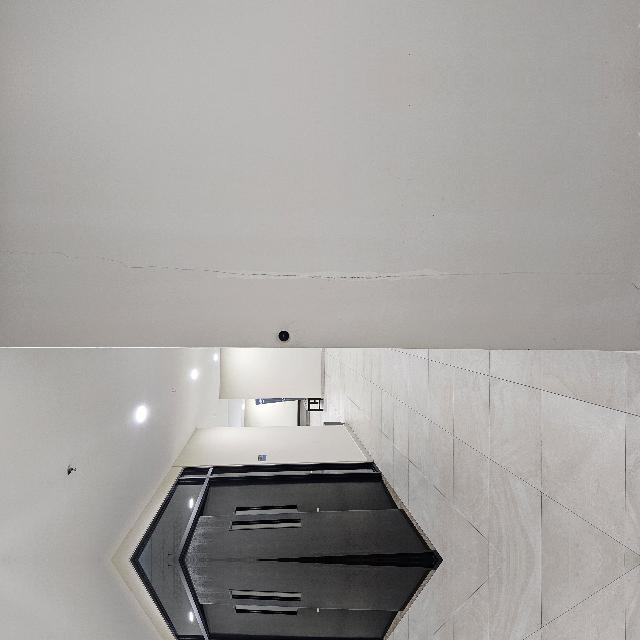door: (1, 259, 87, 517), (1, 603, 87, 640)
